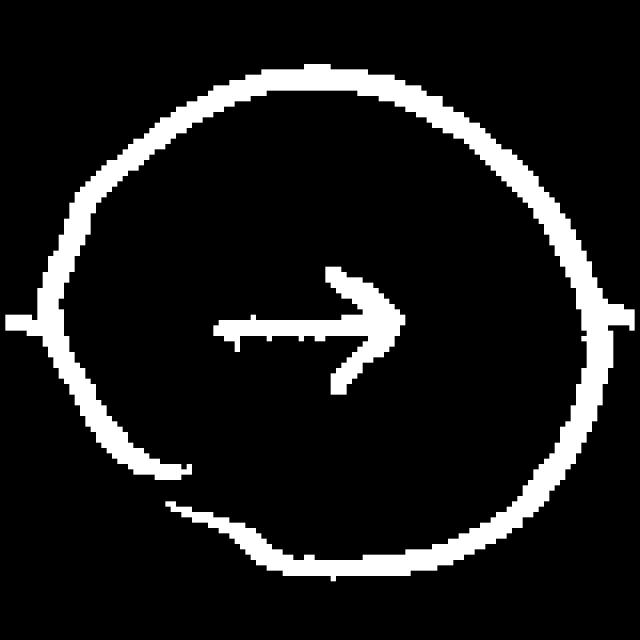current_source: (22, 48, 615, 584)
